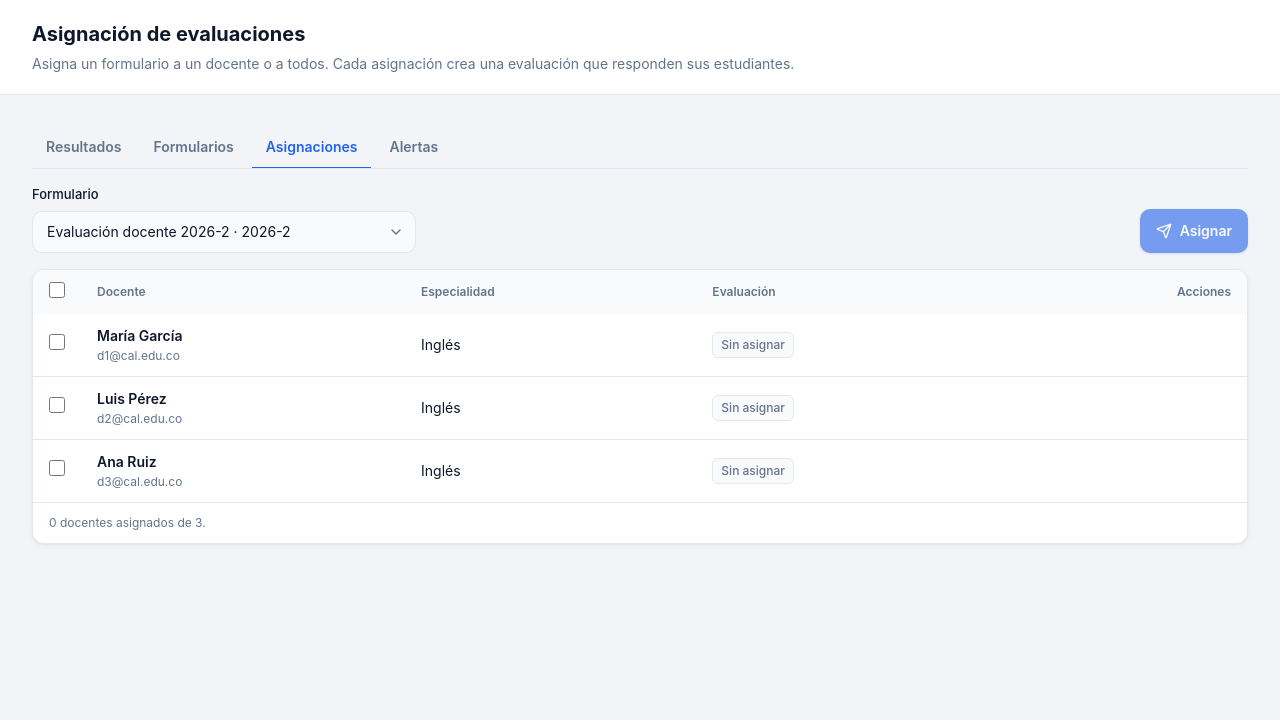
Scenario: Asignación de evaluaciones (RF-31, RF-32) › muestra el error del servidor al asignar
This screenshot has width=1280, height=720.
What coordinates should you click on to do the following:
click the checkbox named "Seleccionar a Ana Ruiz"
I would click on:
 (57, 468)
Its box is [49,460,65,476].
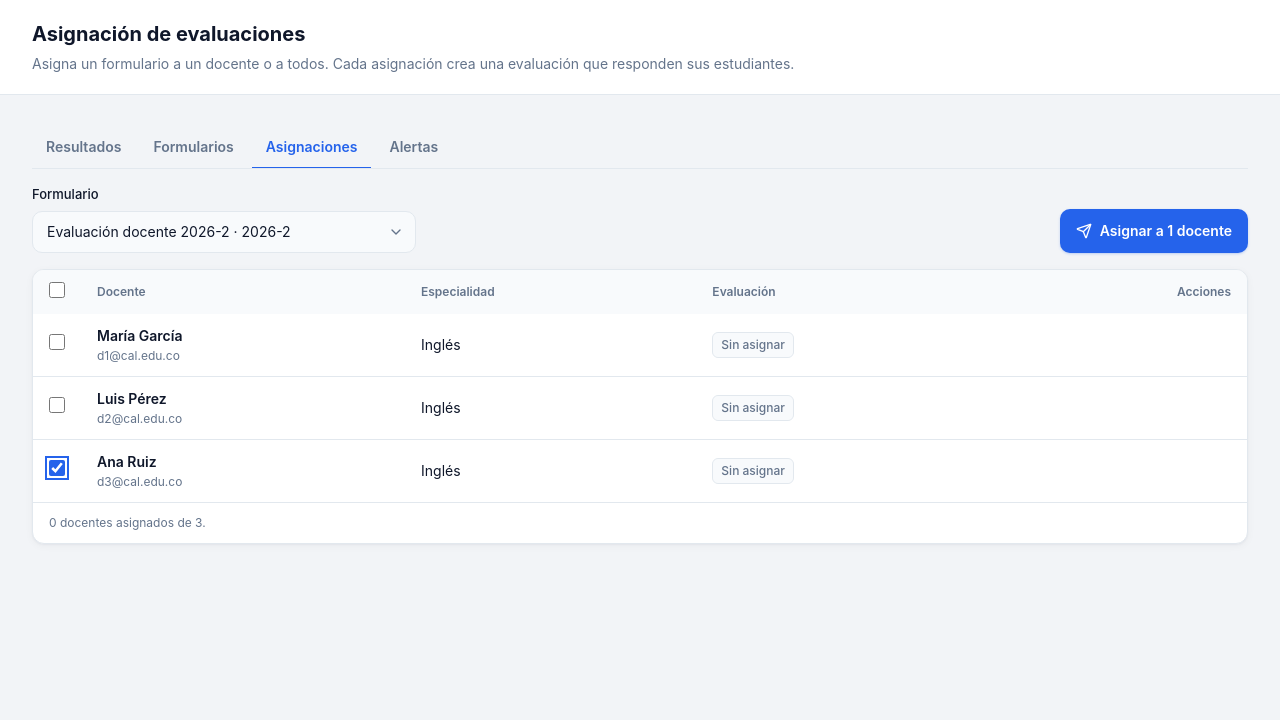
What coordinates should you click on to do the following:
click the button "Asignar a 1 docente"
I would click on:
 (1154, 230)
Its box is [1060,208,1248,252].
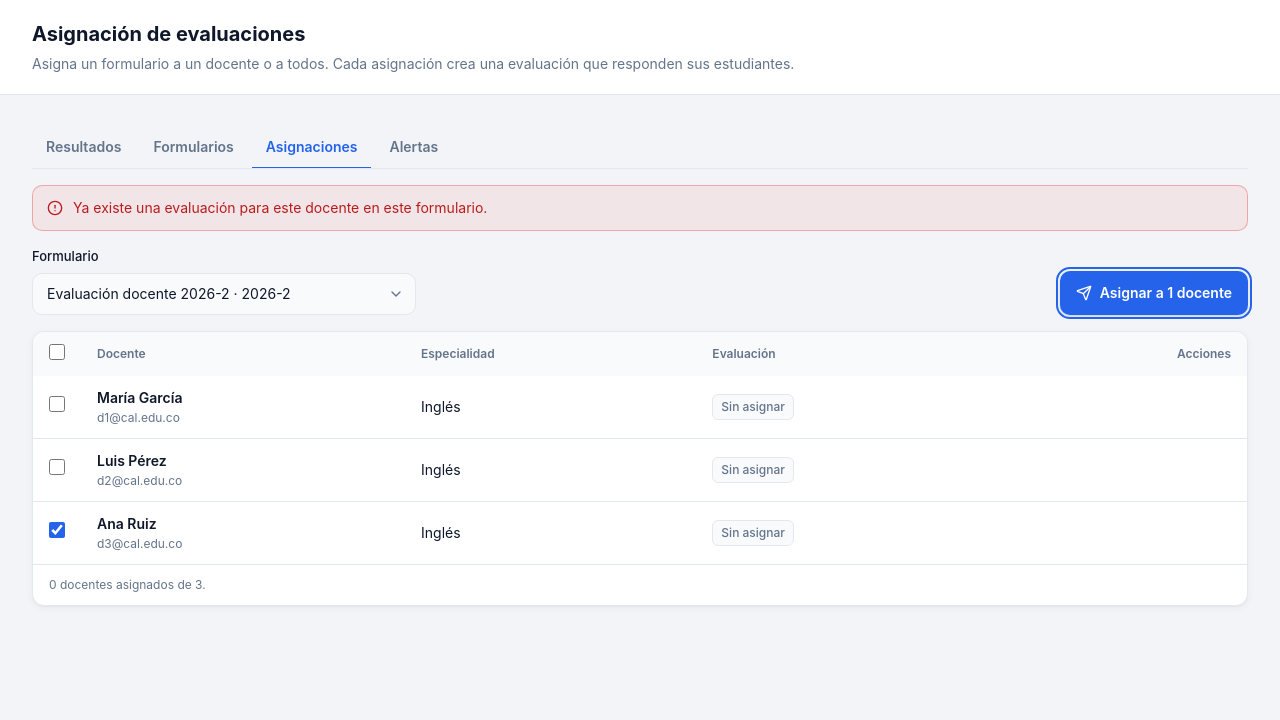
Check: the text "Ya existe una evaluación para este docente en este formulario." is shown, box [73,198,487,218]
